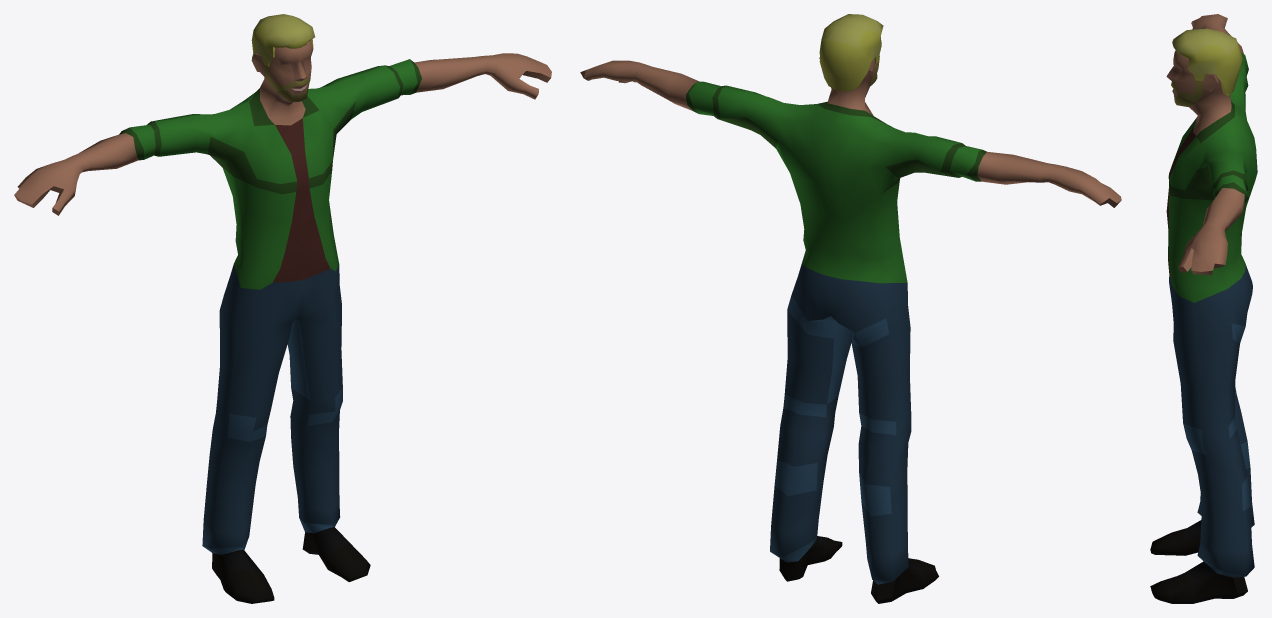
File: Male_Model_03.FBX
3 views of the same model, side by side, from view 1: azimuth 30°, elevation 25°; view 2: azimuth 150°, elevation 25°; view 3: azimuth 270°, elevation 25° (orthographic). The views are drawn at different scales.
Parts seen in each view (by area): view 1: lpMaleG006; view 2: lpMaleG006; view 3: lpMaleG006.
Boxes of the visible parts, x1=… form: lpMaleG006: x1=14, y1=14, x2=551, y2=603; lpMaleG006: x1=580, y1=14, x2=1121, y2=603; lpMaleG006: x1=1150, y1=14, x2=1257, y2=603.
Bounding box in the file's own units: 71.96 × 71.67 × 12.85.
